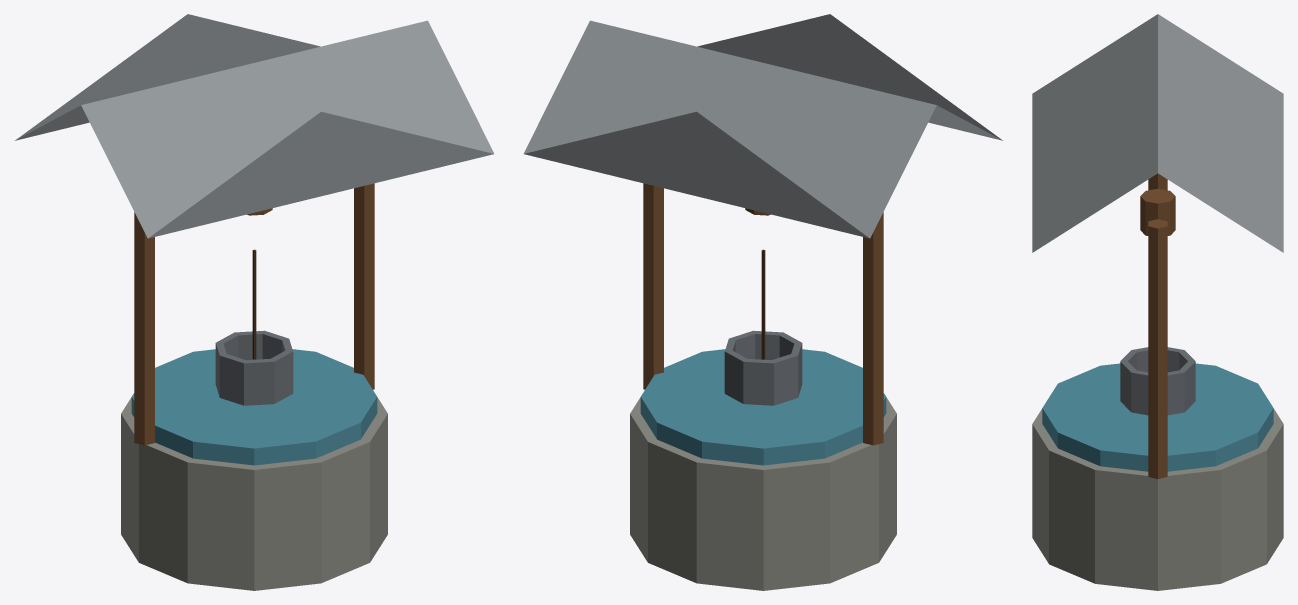
File: well_sumur.obj
The picture shows the model from 3 angles, left to right: view 1: azimuth 30°, elevation 25°; view 2: azimuth 150°, elevation 25°; view 3: azimuth 270°, elevation 25°; orthographic projection. The views are drawn at different scales.
Visible parts, largest first — view 1: roof, well_ring, water, frame_post, bucket; view 2: roof, well_ring, water, frame_post, bucket; view 3: roof, well_ring, water, frame_post, bucket, pulley.
Boxes of the visible parts, box(x1,y1,x2,y2) form: roof: box(15, 14, 494, 238); well_ring: box(121, 397, 387, 590); water: box(131, 349, 377, 465); frame_post: box(134, 183, 374, 445); bucket: box(215, 330, 293, 405); roof: box(523, 14, 1002, 238); well_ring: box(630, 397, 896, 590); water: box(640, 349, 886, 465); frame_post: box(643, 183, 883, 445); bucket: box(724, 330, 802, 405); roof: box(1032, 14, 1283, 252); well_ring: box(1032, 408, 1283, 590); water: box(1042, 363, 1273, 471); frame_post: box(1148, 173, 1167, 478); bucket: box(1120, 347, 1195, 415); pulley: box(1140, 188, 1175, 235).
Size of the model in its own units: 3 by 3.9 by 2.
